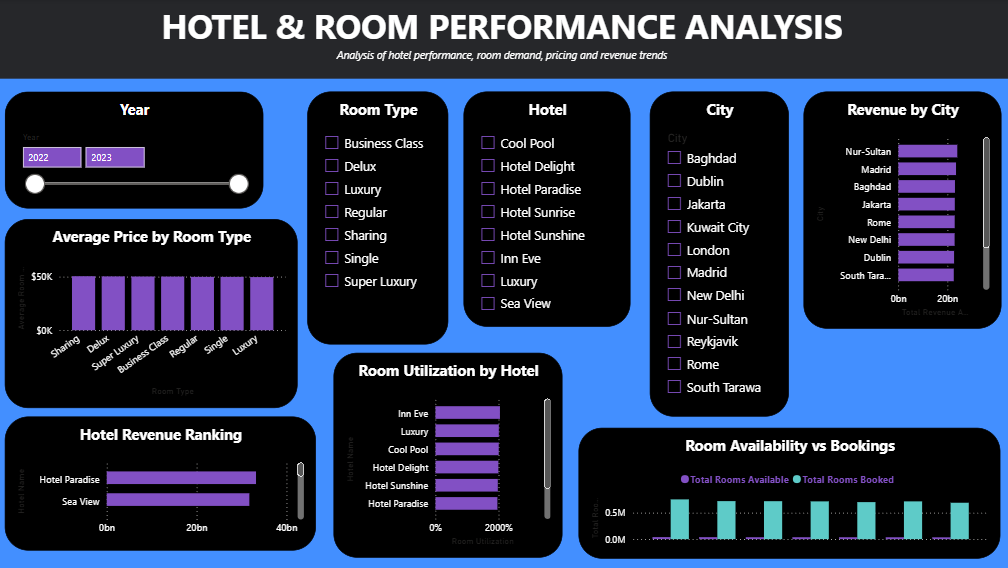

The dashboard page shown, as its layout file describes it:
{"tool":"powerbi","page":{"name":"Hotel & Room Analysis","canvas":[1280,720],"ordinal":1},"visuals":[{"type":"textbox","box":[0,0,1280,100.5],"z":0},{"type":"clusteredBarChart","title":"Hotel Revenue Ranking","fields":{"Category":["0_Hotel_management Data.Hotel Name"],"Y":["0_Hotel_management Data.Total Revenue Amount"]},"box":[10.9,528.4,393.3,169.6],"z":1000},{"type":"columnChart","title":"Average Price by Room Type","fields":{"Category":["0_Hotel_management Data.Room Type"],"Y":["0_Hotel_management Data.Average Room Price"]},"box":[10.9,277.5,370.4,238.9],"z":2000},{"type":"slicer","title":"Hotel","fields":{"Values":["0_Hotel_management Data.Hotel Name"]},"box":[591.2,117,211.1,298],"z":3000},{"type":"slicer","title":"Room Type","fields":{"Values":["0_Hotel_management Data.Room Type"]},"box":[393.3,117,178.6,319.7],"z":4000},{"type":"slicer","title":"City","fields":{"Values":["0_Hotel_management Data.City"]},"box":[827.6,117,176.1,411.4],"z":5000},{"type":"clusteredBarChart","title":"Room Utilization by Hotel","fields":{"Category":["0_Hotel_management Data.Hotel Name"],"Y":["0_Hotel_management Data.Room Utilization"]},"box":[427.1,447.6,289.5,259.4],"z":6000},{"type":"clusteredColumnChart","title":"Room Availability vs Bookings","fields":{"Category":["0_Hotel_management Data.Room Type"],"Y":["0_Hotel_management Data.Total Rooms Available","0_Hotel_management Data.Total Rooms Booked"]},"box":[737.1,541.7,533.2,165.3],"z":7000},{"type":"barChart","title":"Revenue by City","fields":{"Category":["0_Hotel_management Data.City"],"Y":["0_Hotel_management Data.Total Revenue Amount"]},"box":[1020.6,117,250,300],"z":8000},{"type":"slicer","title":"Year","fields":{"Values":["Calendar.Year"]},"box":[10.9,117,326.9,148.4],"z":9000}]}

Visuals, with their boxes in screenshot pixels (x1, y1, x2, y2), scaled from the page's 1280x720 canvas onto the 1008x568 screenshot:
textbox: (0, 0, 1007, 79)
"Hotel Revenue Ranking" clusteredBarChart: (9, 417, 318, 551)
"Average Price by Room Type" columnChart: (9, 219, 300, 407)
"Hotel" slicer: (466, 92, 632, 327)
"Room Type" slicer: (310, 92, 450, 345)
"City" slicer: (652, 92, 790, 417)
"Room Utilization by Hotel" clusteredBarChart: (336, 353, 564, 558)
"Room Availability vs Bookings" clusteredColumnChart: (580, 427, 1000, 558)
"Revenue by City" barChart: (804, 92, 1001, 329)
"Year" slicer: (9, 92, 266, 209)
